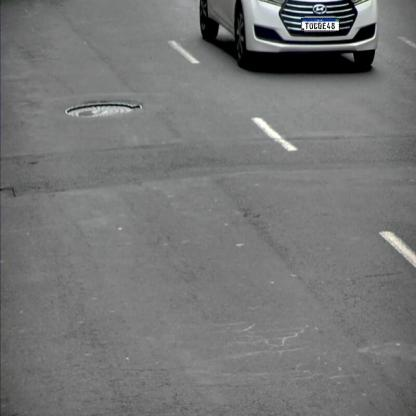PlacaM: (301, 18, 340, 31)
